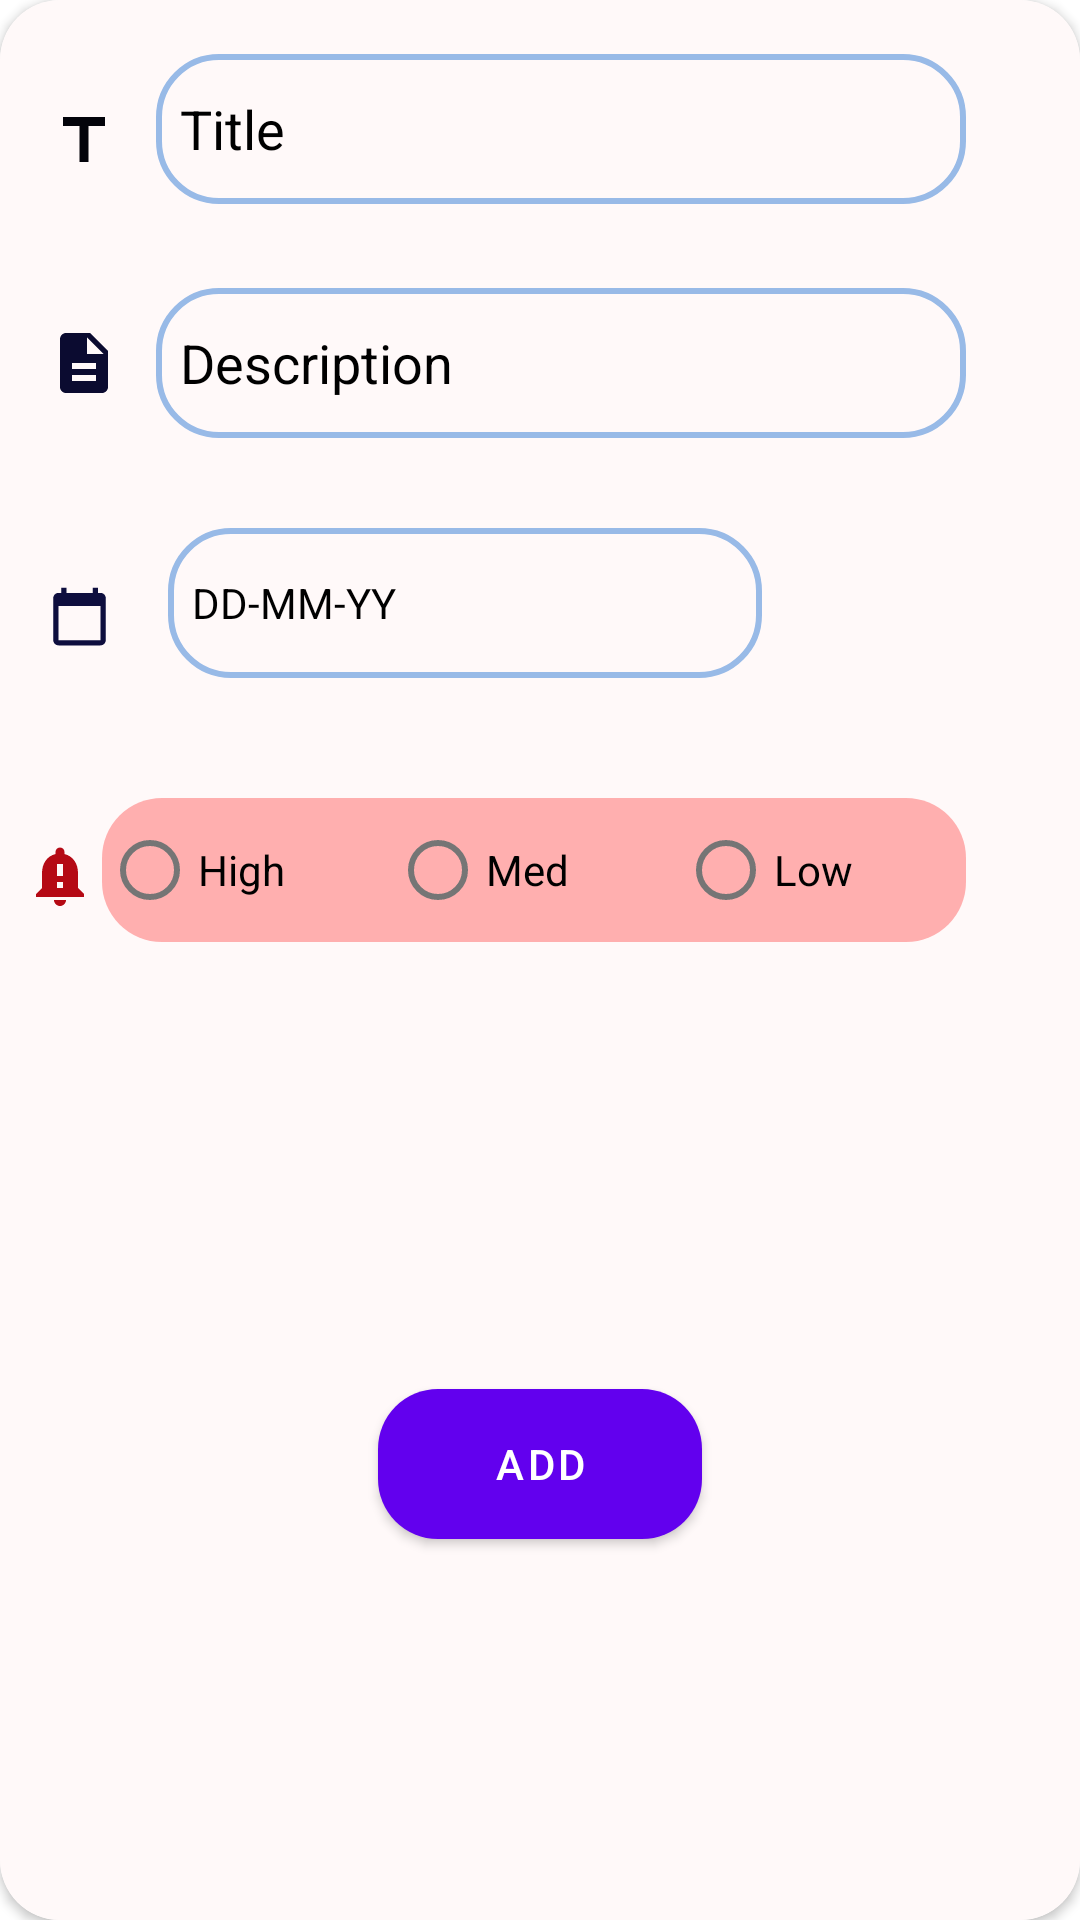

Screen size 1080px×1920px. Icon name, then its center in pixels as [x,y]:
calender: [79,616]
Priority bell: [60,876]
